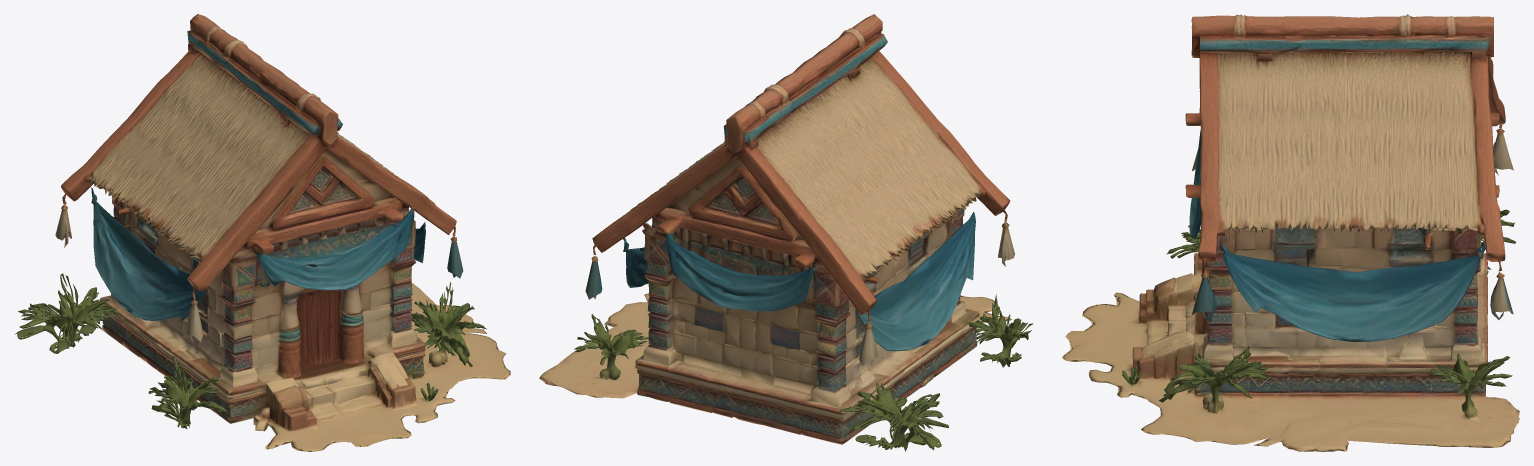
Rendered from tripo_5889e73e.glb.
The picture shows the model from 3 angles, left to right: view 1: azimuth 30°, elevation 25°; view 2: azimuth 150°, elevation 25°; view 3: azimuth 270°, elevation 25°; orthographic projection. The views are drawn at different scales.
Visible parts, largest first — view 1: tripo_node_5889e73e-1cab-400a-ba75-3d88553a6738; view 2: tripo_node_5889e73e-1cab-400a-ba75-3d88553a6738; view 3: tripo_node_5889e73e-1cab-400a-ba75-3d88553a6738.
Boxes of the visible parts, x1,y1,x2,y2 form: tripo_node_5889e73e-1cab-400a-ba75-3d88553a6738: (15, 14, 510, 451); tripo_node_5889e73e-1cab-400a-ba75-3d88553a6738: (539, 14, 1033, 451); tripo_node_5889e73e-1cab-400a-ba75-3d88553a6738: (1062, 14, 1519, 451).
Bounding box in the file's own units: 0.999 × 0.7367 × 0.9141.
Materials: 1 (1 with a texture image).
